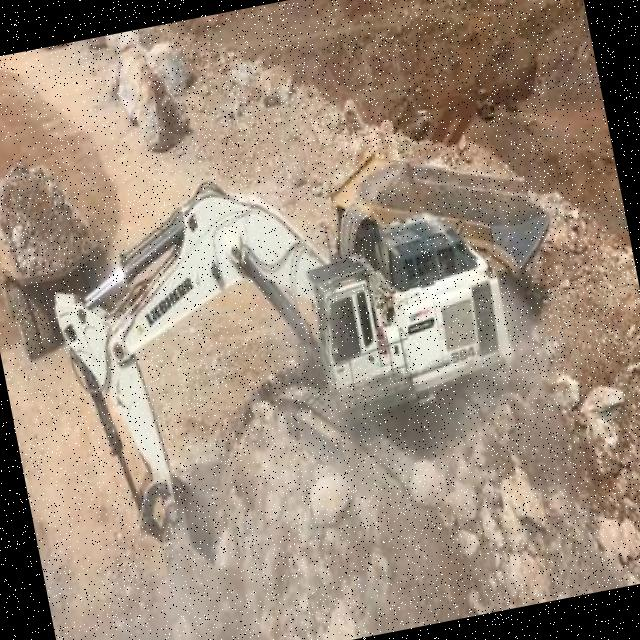Dump Truck: (320, 118, 566, 336), (0, 152, 116, 364)
Excavator: (44, 129, 541, 583)
